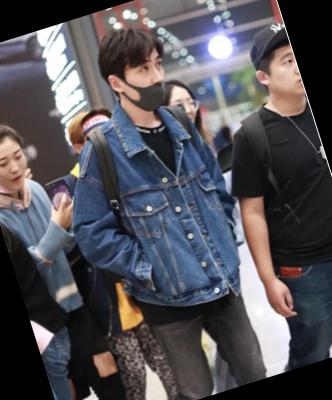mask_weared_incorrect: (120, 52, 180, 117)
without_mask: (266, 50, 307, 102), (165, 83, 201, 129)
